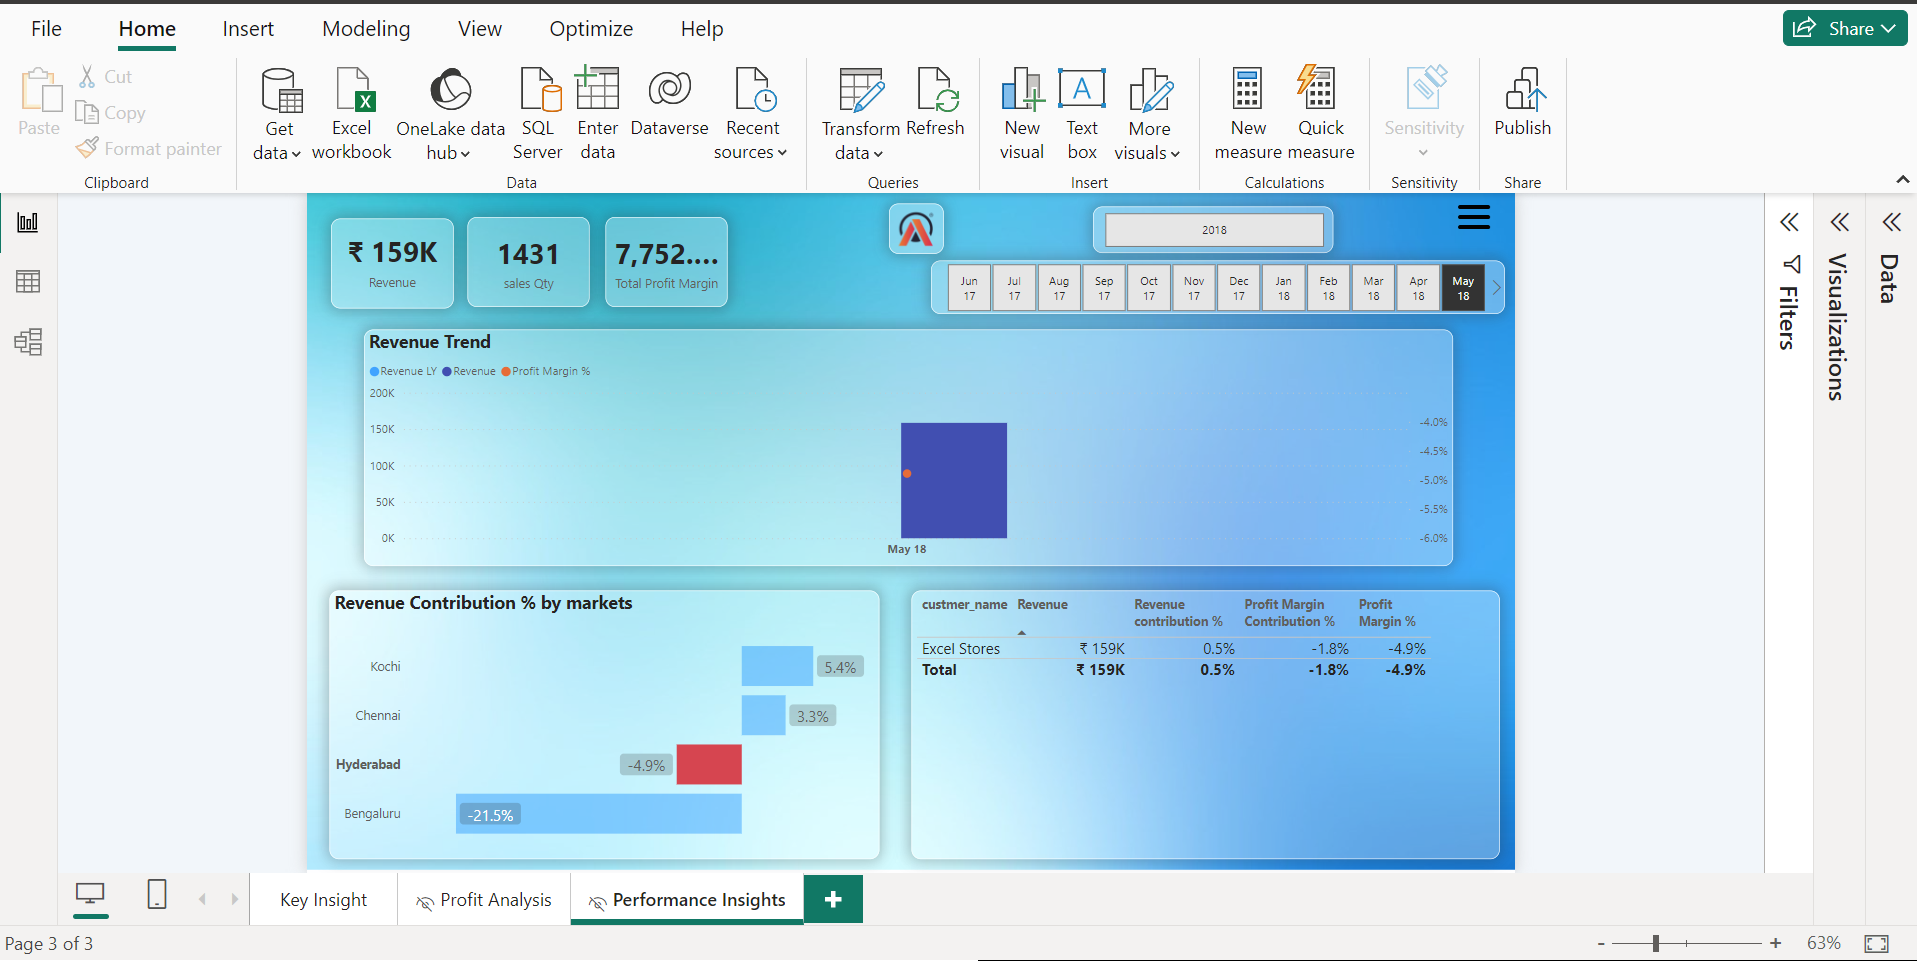

The dashboard page shown, as its layout file describes it:
{"tool":"powerbi","page":{"name":"Performance Insights","canvas":[1280,720],"ordinal":2},"visuals":[{"type":"image","box":[1214.8,3,44.4,44.4],"z":0},{"type":"shape","box":[25.3,26.5,130.3,95.3],"z":5000},{"type":"card","fields":{"Values":["Base Measures 2.Revenue"]},"box":[25.3,25.3,129,91.7],"z":6000},{"type":"shape","box":[24.1,420.9,582.5,284.6],"z":7000},{"type":"barChart","title":"Revenue Contribution % by markets","fields":{"Category":["sales markets.zone","sales markets.markets_name"],"Y":["Base Measures 2.Profit Margin %"]},"box":[24.1,420.9,582.5,284.6],"z":8000},{"type":"shape","box":[60.3,144.7,1154.2,250.9],"z":9000},{"type":"lineClusteredColumnComboChart","title":"Revenue Trend","fields":{"Category":["sales date.cy_date"],"Y":["Base Measures 2.Revenue LY","Base Measures 2.Revenue"],"Y2":["Base Measures 2.Profit Margin %"]},"box":[60.3,144.7,1154.2,250.9],"z":10000},{"type":"shape","box":[640.4,420.9,623.5,284.6],"z":11000},{"type":"tableEx","title":"Top 5 customer","fields":{"Values":["sales customers.custmer_name","Base Measures 2.Revenue","Base Measures 2.Revenue contribution %","Base Measures 2.Profit Margin Contribution %","Base Measures 2.Profit Margin %"]},"box":[640.4,420.9,623.5,284.6],"z":12000},{"type":"shape","box":[832.2,14.5,254.5,49.4],"z":13000},{"type":"slicer","fields":{"Values":["sales date.year"]},"box":[820.1,14.5,281,49.4],"z":14000},{"type":"shape","box":[660.9,71.2,607.8,56.7],"z":15000},{"type":"slicer","fields":{"Values":["sales date.cy_date"]},"box":[652.5,68.7,618.7,63.9],"z":16000},{"type":"shape","box":[170.1,25.3,129,95.3],"z":17000},{"type":"shape","box":[316,25.3,129,95.3],"z":18000},{"type":"shape","box":[466.7,26.5,129,104.9],"z":19000},{"type":"card","fields":{"Values":["Base Measures 2.sales Qty"]},"box":[170.1,25.3,129,95.3],"z":20000},{"type":"card","fields":{"Values":["Base Measures 2.Total Profit Margin"]},"box":[316,25.3,129,95.3],"z":21000},{"type":"slicer","fields":{"Values":["Profit Target.Profit Target"]},"box":[466.7,25.3,129,104.9],"z":22000},{"type":"shape","box":[616.3,10.9,57.9,53.1],"z":23000},{"type":"image","box":[617.5,14.5,54.3,47],"z":24000}]}

Visuals, with their boxes on the page's 1280x720 design canvas (x1, y1, x2, y2). These are canvas units, not pixel positions in the 1917x961 screenshot, which may show the page scaled, cropped or inside an application window:
image: box=[1215, 3, 1259, 47]
shape: box=[25, 26, 156, 122]
card - Base Measures 2.Revenue: box=[25, 25, 154, 117]
shape: box=[24, 421, 607, 706]
"Revenue Contribution % by markets" barChart: box=[24, 421, 607, 706]
shape: box=[60, 145, 1214, 396]
"Revenue Trend" lineClusteredColumnComboChart: box=[60, 145, 1214, 396]
shape: box=[640, 421, 1264, 706]
"Top 5 customer" tableEx: box=[640, 421, 1264, 706]
shape: box=[832, 14, 1087, 64]
slicer - sales date.year: box=[820, 14, 1101, 64]
shape: box=[661, 71, 1269, 128]
slicer - sales date.cy_date: box=[652, 69, 1271, 133]
shape: box=[170, 25, 299, 121]
shape: box=[316, 25, 445, 121]
shape: box=[467, 26, 596, 131]
card - Base Measures 2.sales Qty: box=[170, 25, 299, 121]
card - Base Measures 2.Total Profit Margin: box=[316, 25, 445, 121]
slicer - Profit Target.Profit Target: box=[467, 25, 596, 130]
shape: box=[616, 11, 674, 64]
image: box=[618, 14, 672, 62]
